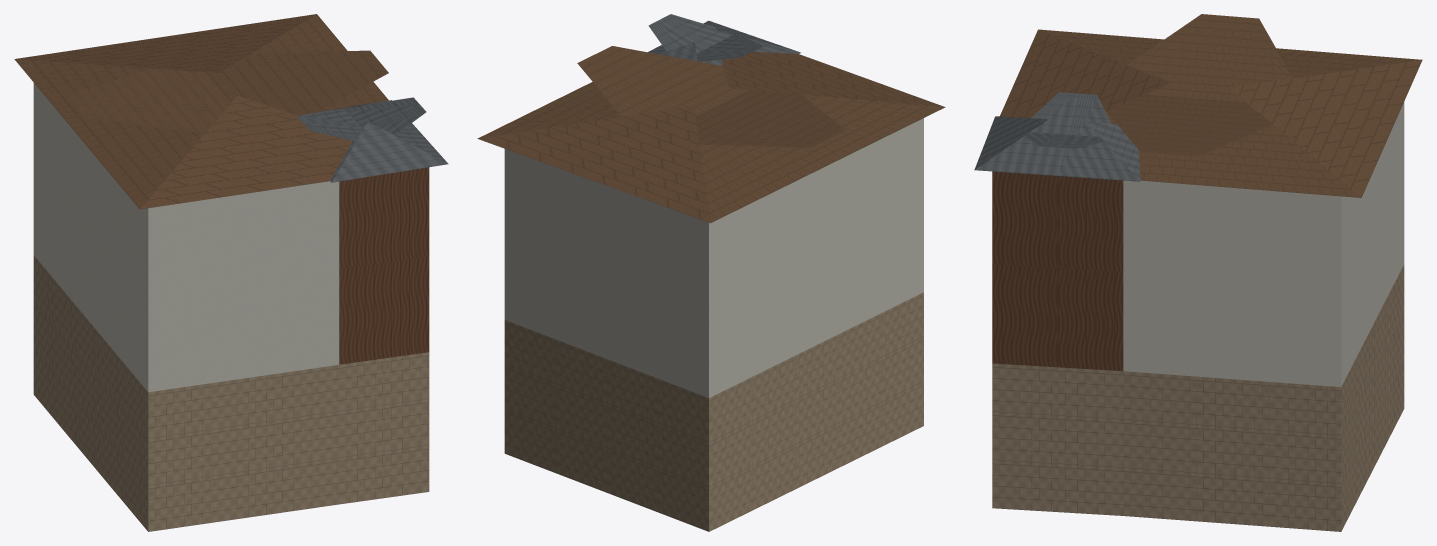
The model's file is bld_c31_44_253.gltf.
The picture shows the model from 3 angles, left to right: view 1: azimuth 30°, elevation 25°; view 2: azimuth 150°, elevation 25°; view 3: azimuth 270°, elevation 25°; orthographic projection. The views are drawn at different scales.
Visible parts, largest first — view 1: bld_c31_44_253; view 2: bld_c31_44_253; view 3: bld_c31_44_253.
Part boxes in pixels (x1,y1,x2,y2): bld_c31_44_253: [14, 14, 448, 531]; bld_c31_44_253: [477, 14, 945, 531]; bld_c31_44_253: [974, 14, 1422, 531].
Size of the model in its own units: 12.73 by 13.1 by 14.31.
5 materials, 5 textured.
